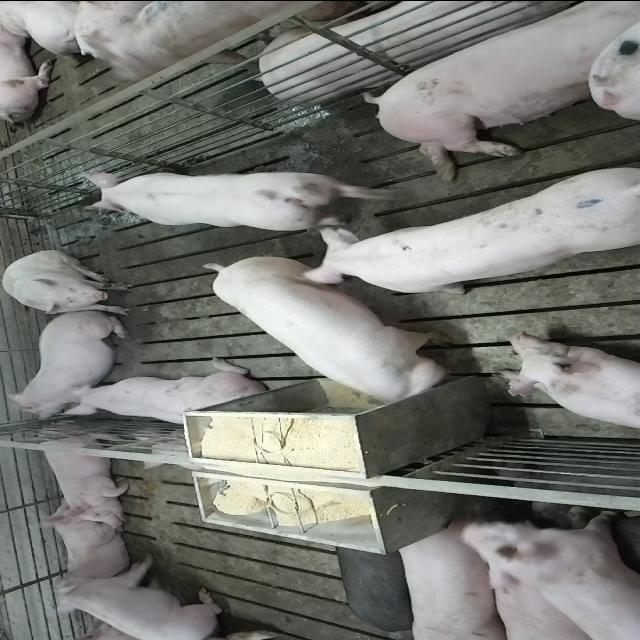Feeding: (199, 256, 462, 414)
Lateral_lying: (366, 4, 640, 184), (260, 0, 590, 100)
Sitting: (3, 250, 138, 315)
Standing: (295, 160, 635, 298), (74, 0, 374, 78), (456, 512, 640, 638), (79, 160, 371, 230), (397, 515, 518, 637), (331, 538, 417, 636)
Sternal_lying: (48, 556, 228, 638), (496, 336, 638, 436), (3, 314, 128, 422), (59, 366, 267, 426), (34, 425, 136, 518), (36, 502, 138, 582)
